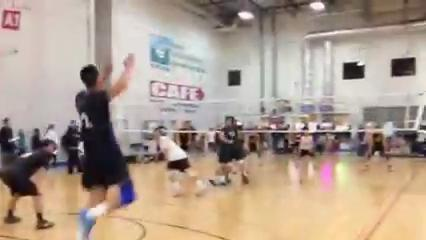Player: (57, 54, 150, 238), (0, 140, 56, 228), (153, 126, 205, 196), (210, 117, 248, 185), (364, 131, 391, 171), (295, 130, 314, 182), (234, 121, 248, 183)
